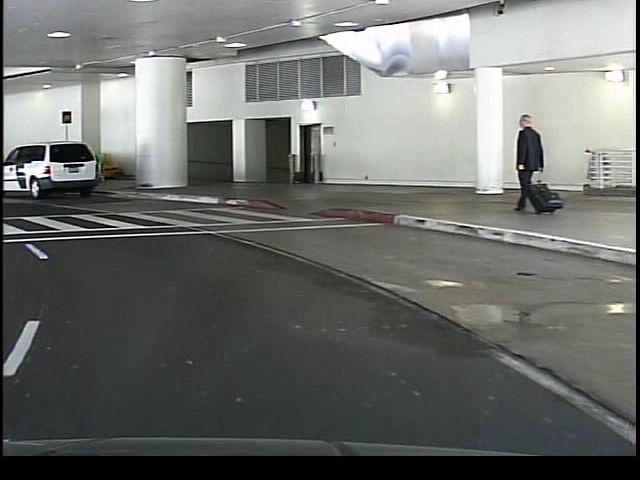person: (503, 108, 541, 218)
